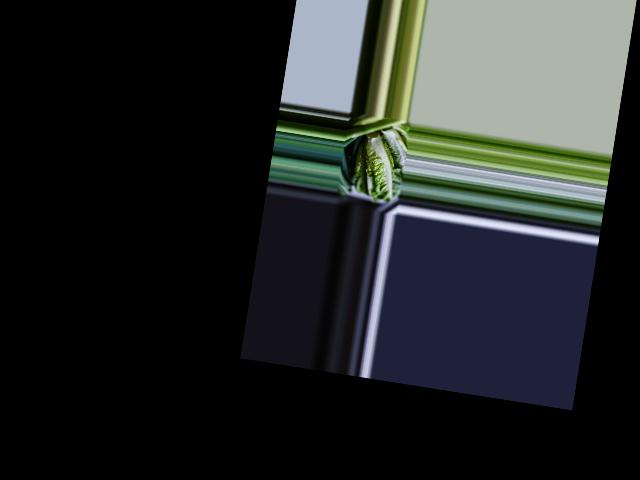lettuce: (349, 129, 402, 203)
